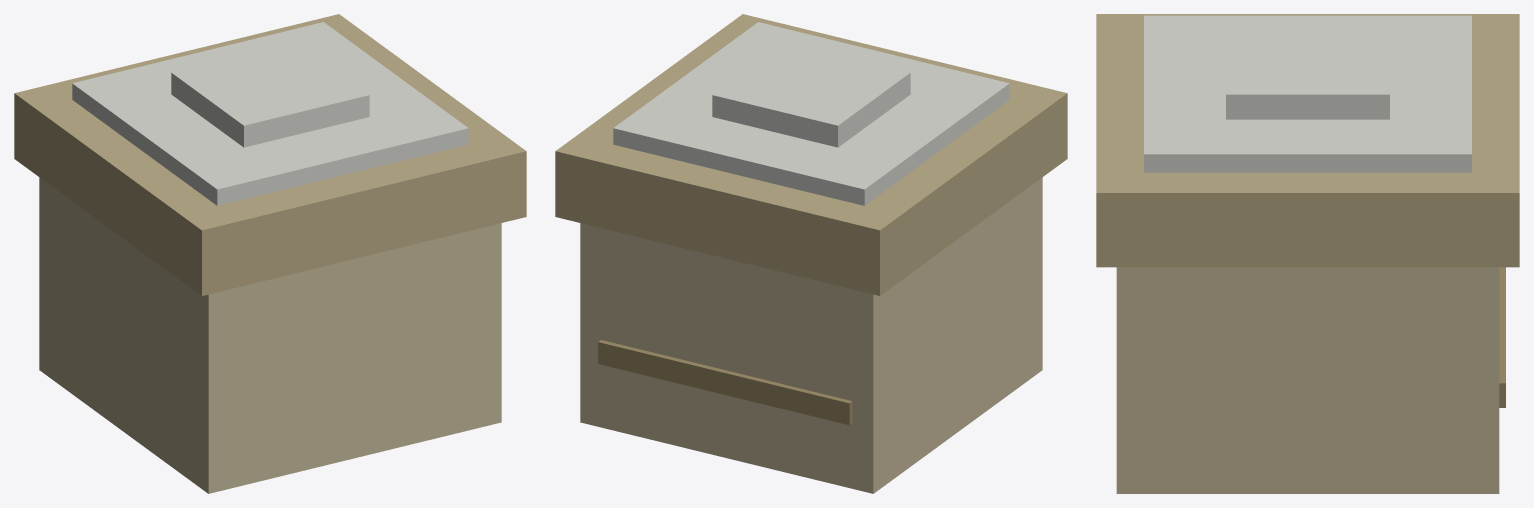
Rendered from cp-sack-rice.glb.
3 renders of one model, left to right at view 1: azimuth 30°, elevation 25°; view 2: azimuth 150°, elevation 25°; view 3: azimuth 270°, elevation 25°, orthographic. The views are drawn at different scales.
Parts seen in each view (by area): view 1: box-prop; view 2: box-prop; view 3: box-prop.
Part boxes in pixels (x1,y1,x2,y2): box-prop: (14, 14, 526, 493); box-prop: (555, 14, 1067, 493); box-prop: (1096, 14, 1519, 493).
Size of the model in its own units: 0.62 by 0.57 by 0.62.
